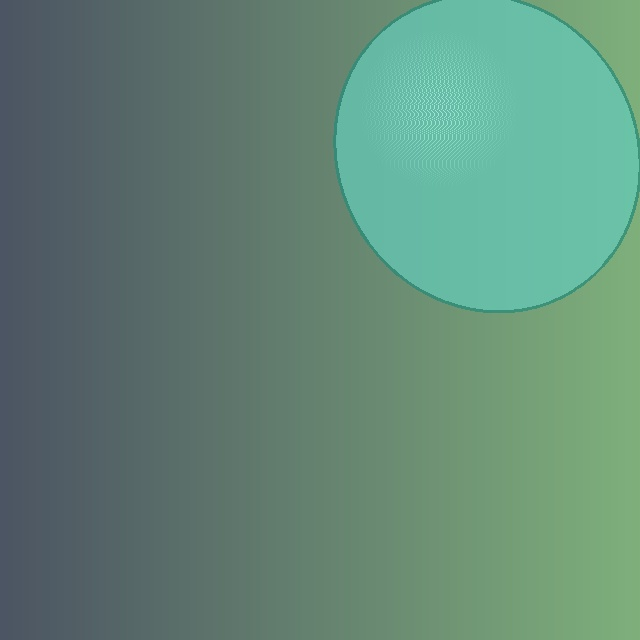lens: (335, 0, 639, 311)
